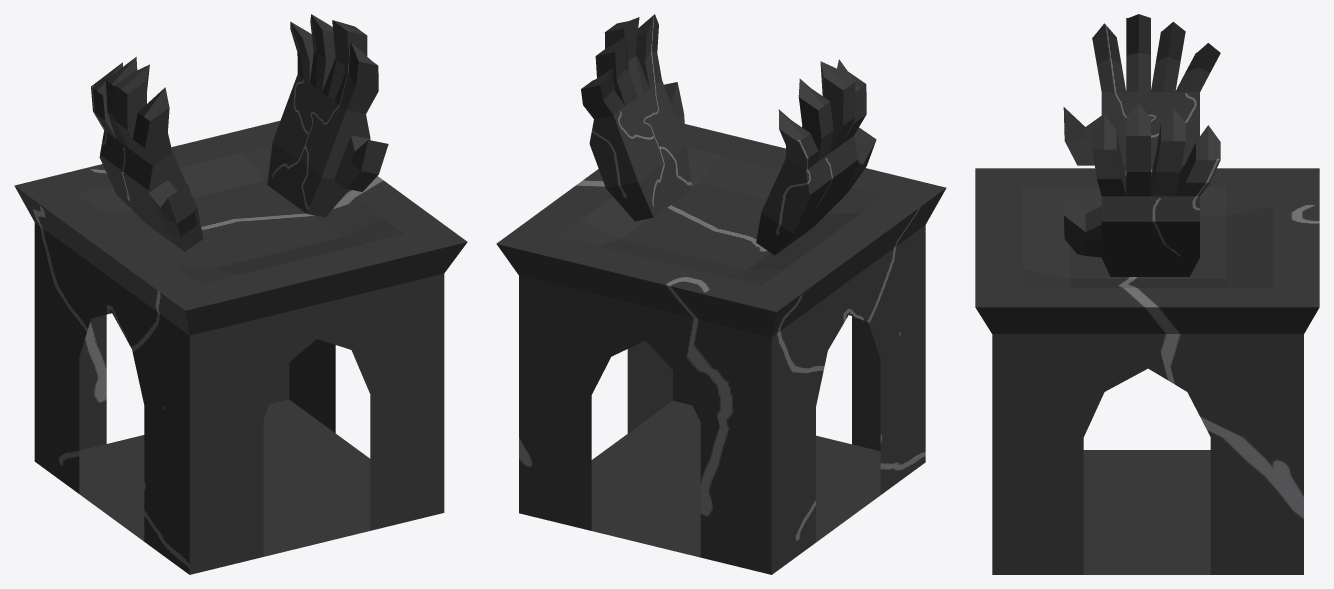
Rendered from PortalBoss.fbx.
The picture shows the model from 3 angles, left to right: view 1: azimuth 30°, elevation 25°; view 2: azimuth 150°, elevation 25°; view 3: azimuth 270°, elevation 25°; orthographic projection.
Visible parts, largest first — view 1: portal; view 2: portal; view 3: portal.
Boxes of the visible parts, <box> form: portal: <box>14,14,467,574</box>; portal: <box>496,14,946,574</box>; portal: <box>975,14,1319,574</box>.
Bounding box in the file's own units: 667 × 1015 × 701.
